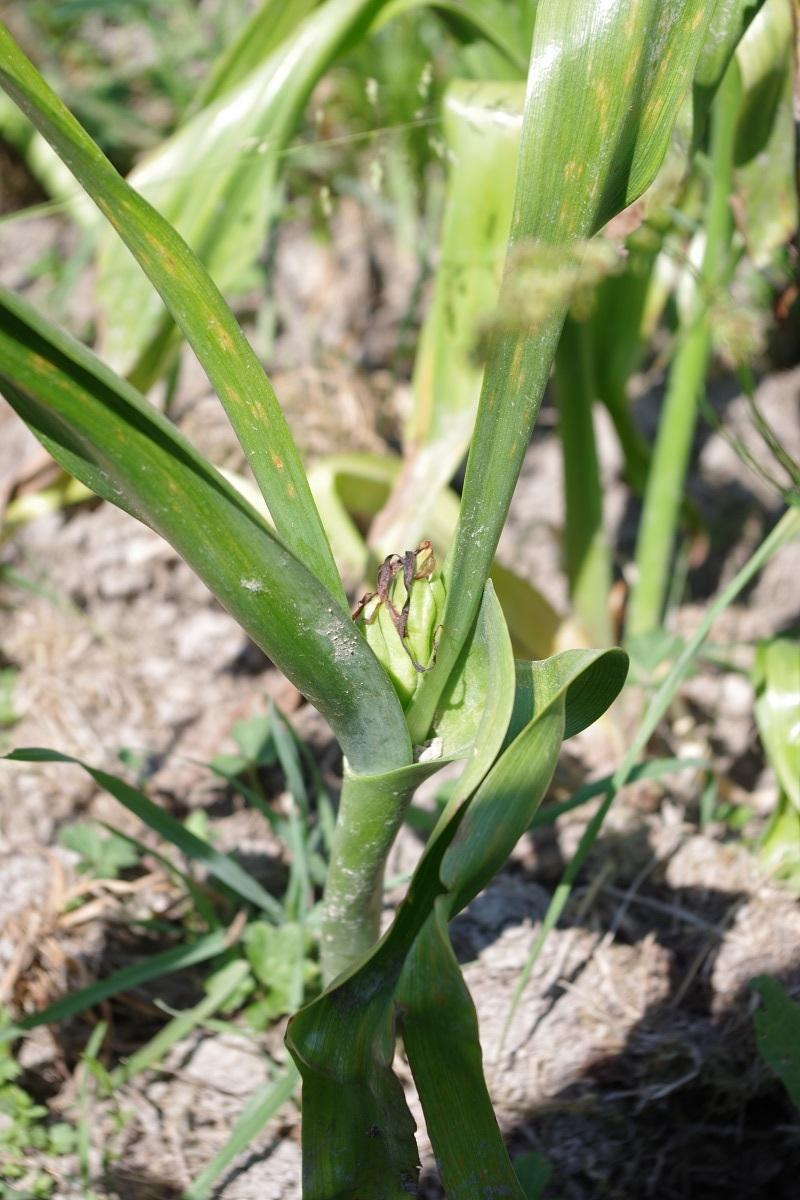Colchicum autumnale L: (19, 59, 648, 1200)
